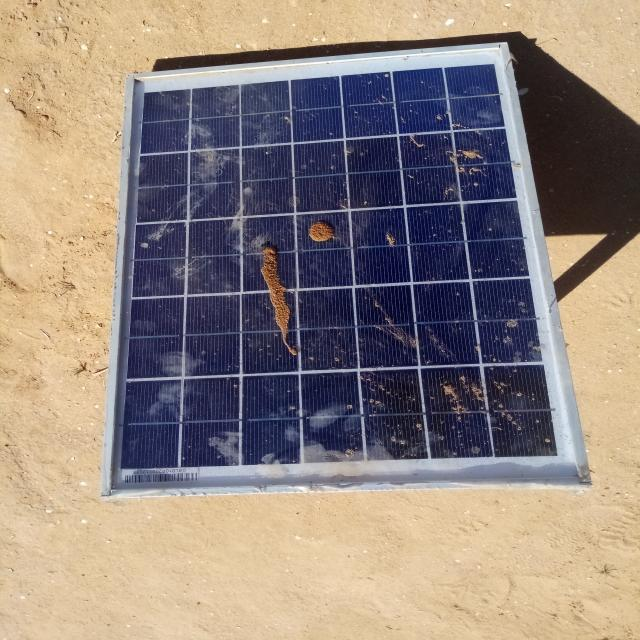faulty: (107, 48, 585, 494)
